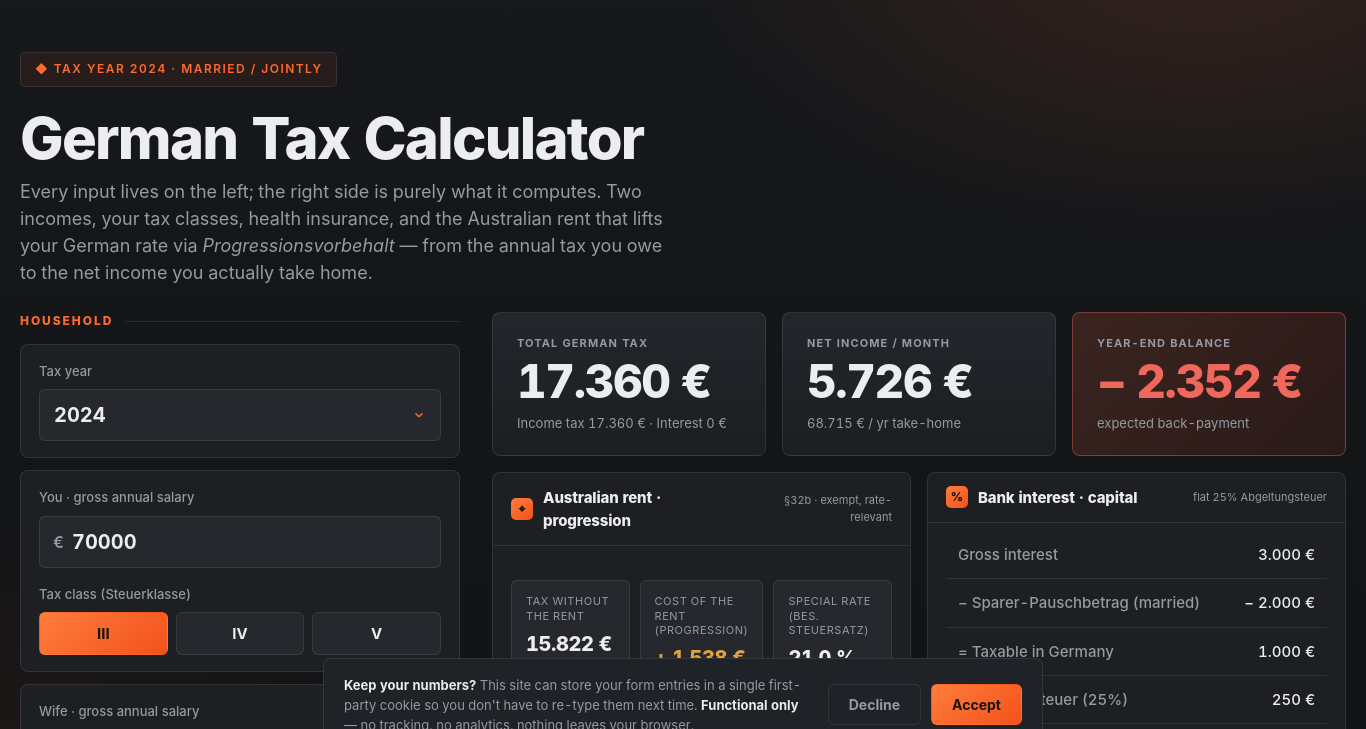
Scenario: App.svelte › does not store the form when declined
Click the button "Decline" at (874, 705), box [828, 684, 921, 725]
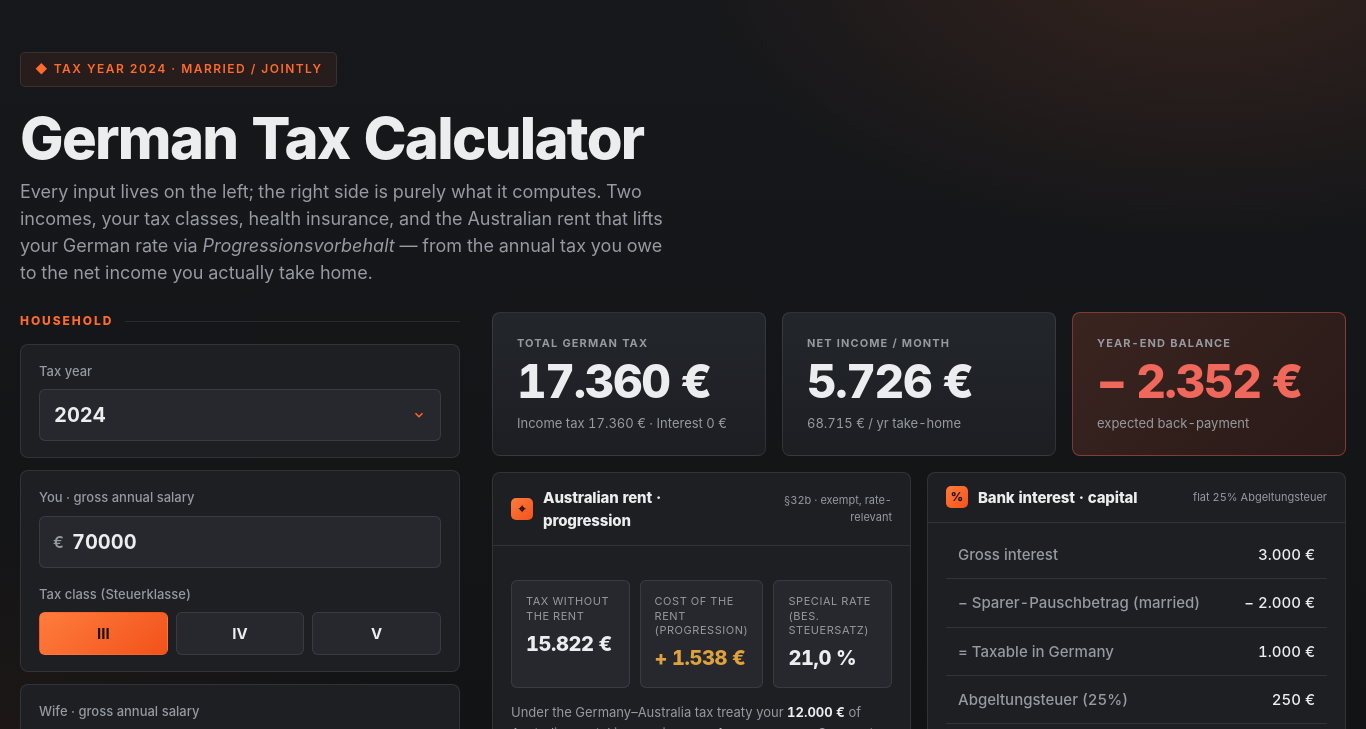
Now the text "Keep your numbers?" is gone
